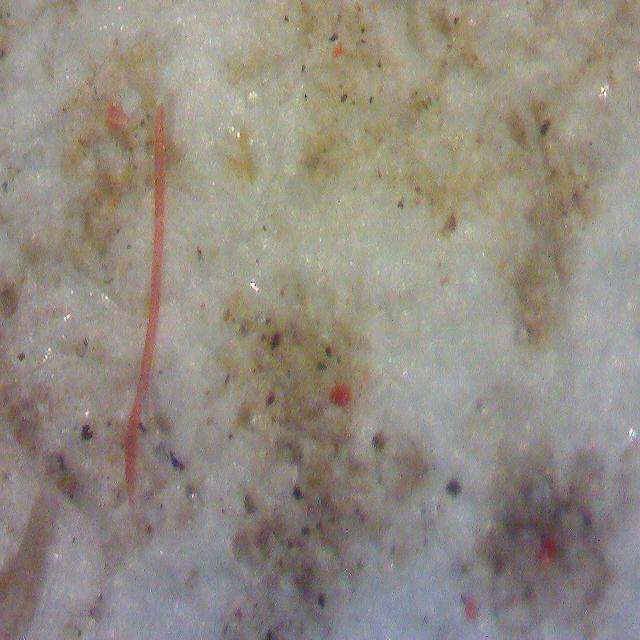microplastic: (123, 102, 163, 506)
